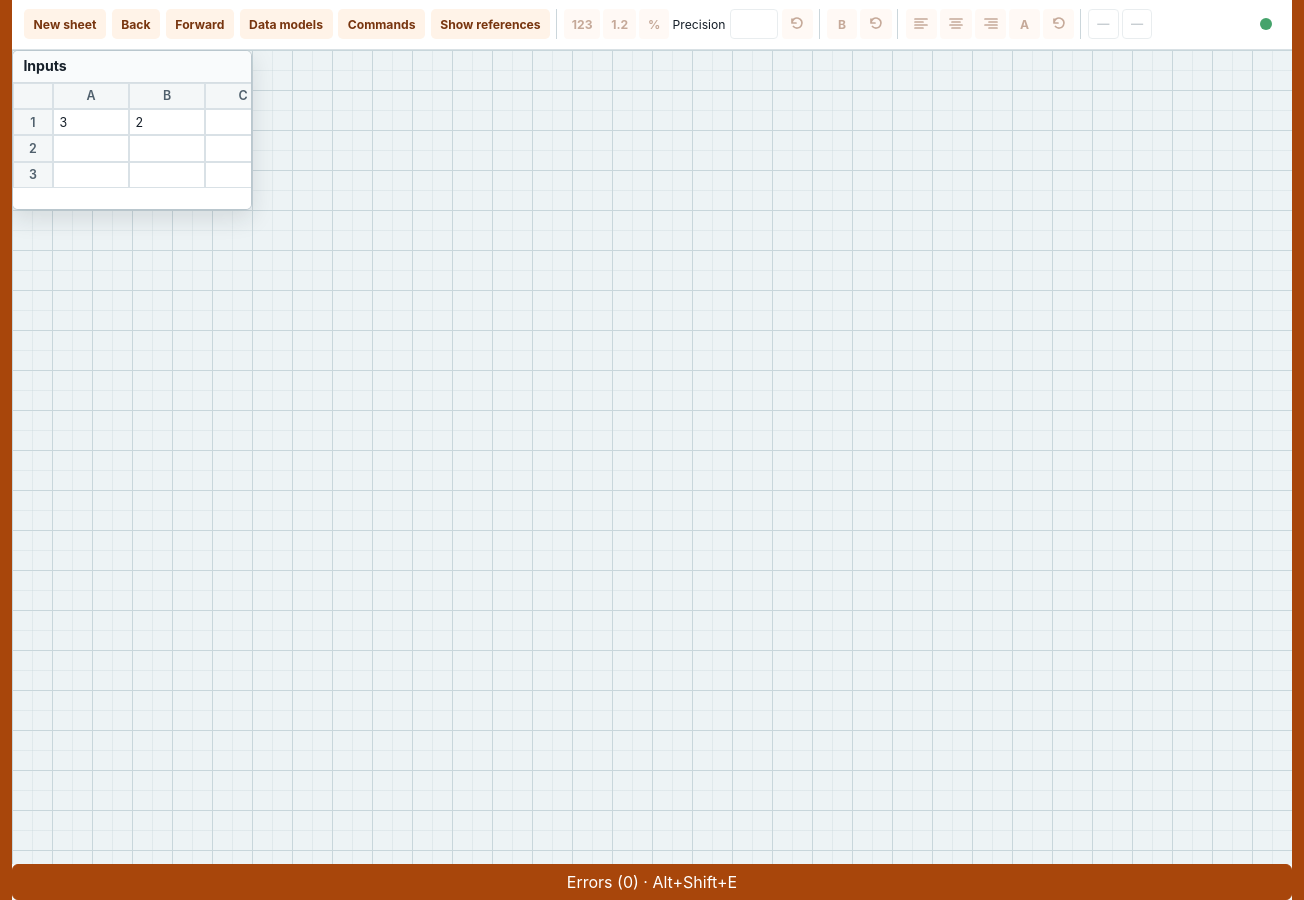
context-menu ownership in the composed workspace › cancels only the sheet menu when Escape comes from its input owner
The image size is (1304, 900).
Click the cell named "Inputs B1 cell".
click(167, 122)  # box [129, 109, 205, 135]
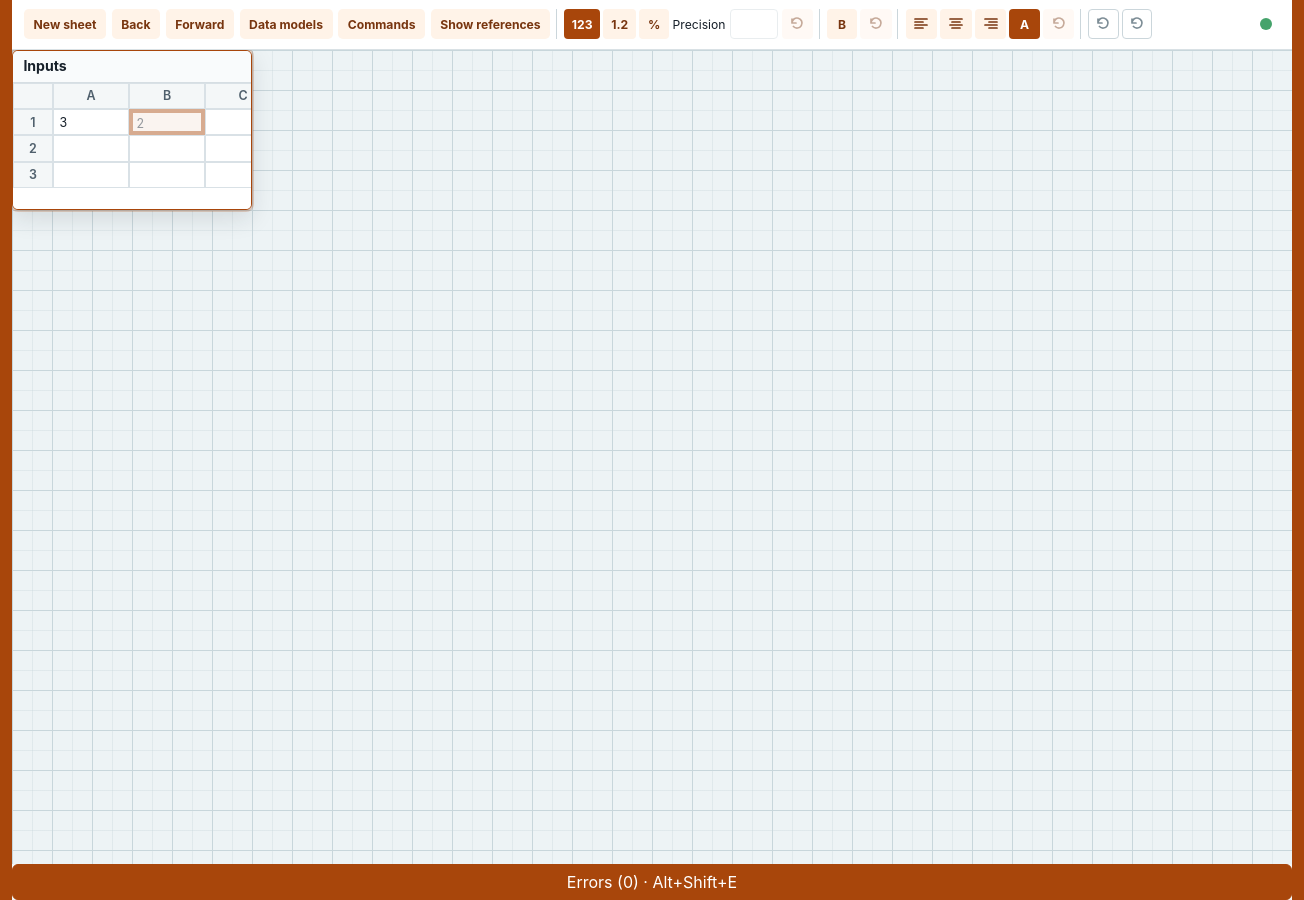
Now the cell named "Inputs B1 cell" has attribute data-pending-cut="true", box [129, 109, 205, 135]
Right-click the element named "Sheet Inputs".
right_click(132, 130)  # box [12, 50, 252, 210]
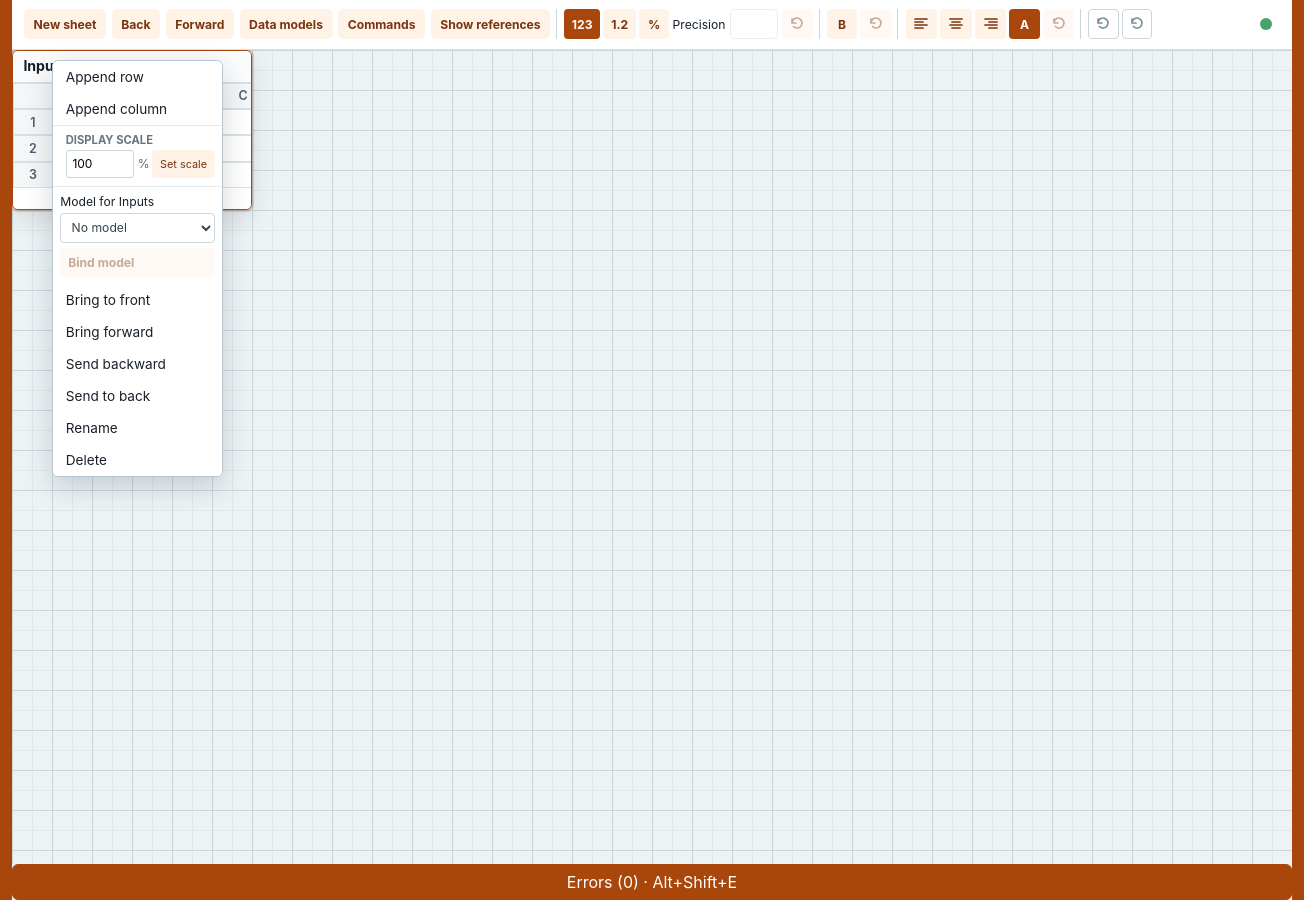
Replace the text in the number field labelled "%" with "75" at (100, 164), box [66, 150, 134, 178]
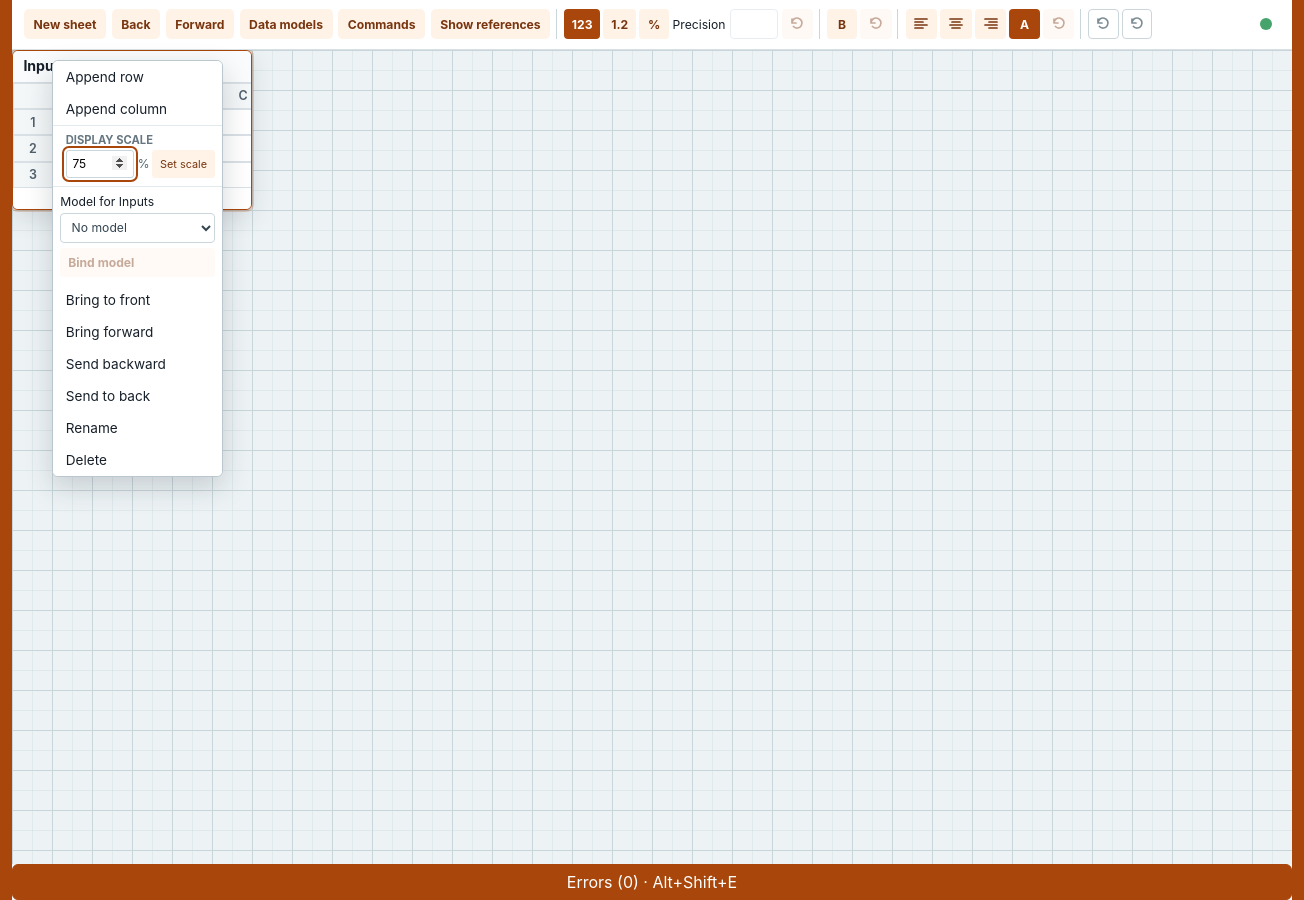
Press Escape in the number field labelled "%", box [66, 150, 134, 178]
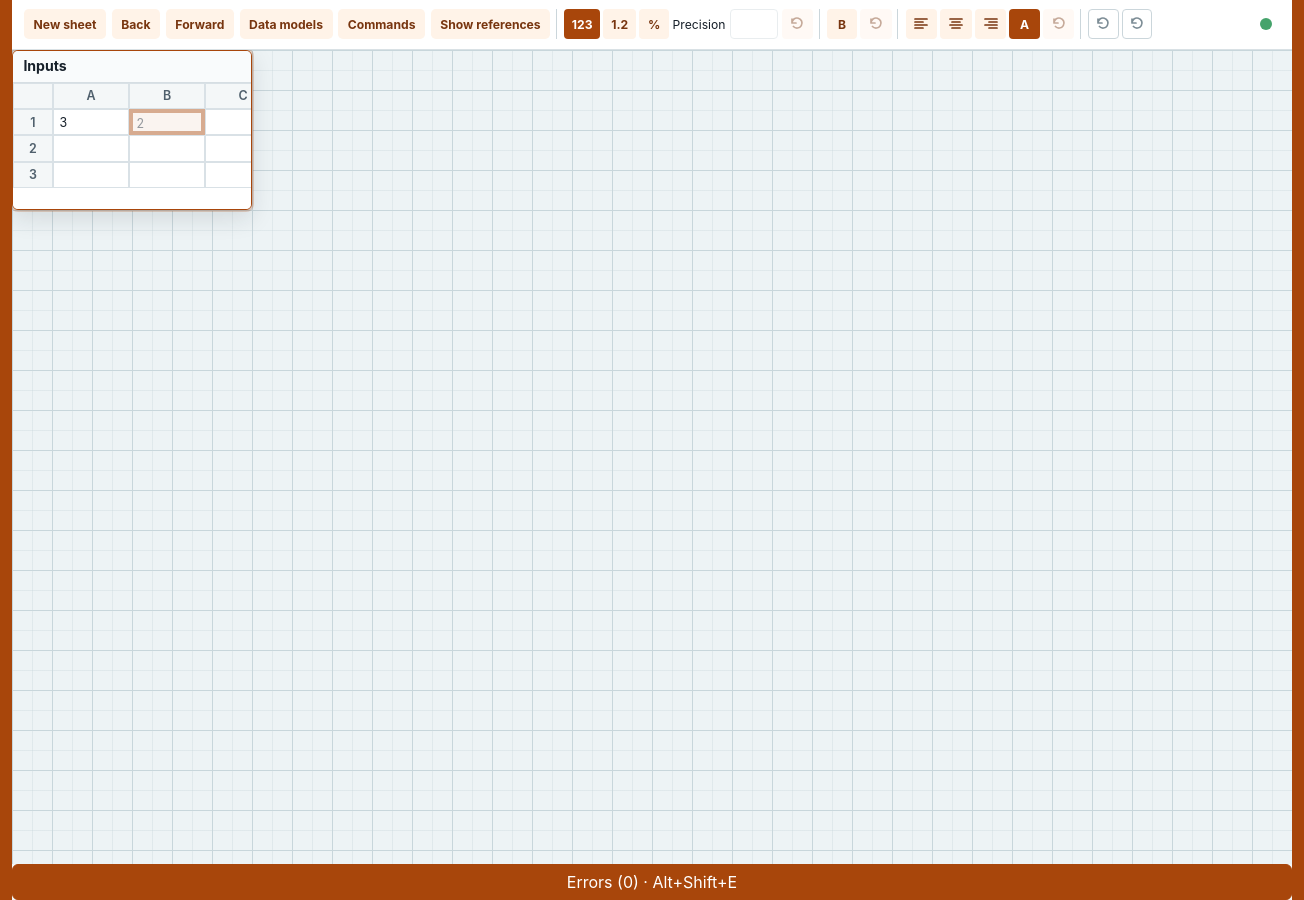
Now the menu is gone
Press Escape in the cell named "Inputs B1 cell", box [129, 109, 205, 135]
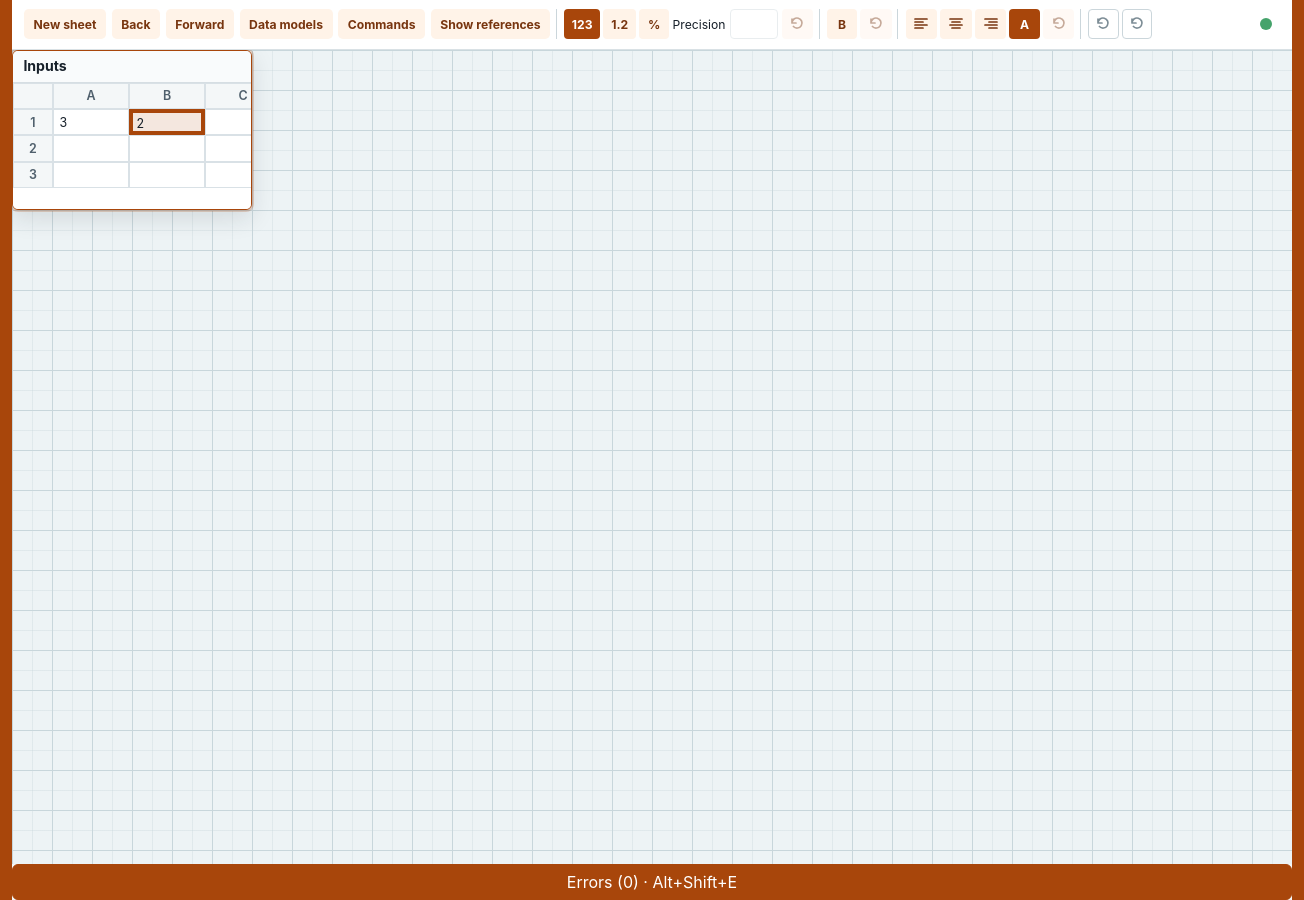
Now the cell named "Inputs B1 cell" does not have attribute data-pending-cut, box [129, 109, 205, 135]
Right-click the element named "Sheet Inputs".
right_click(132, 130)  # box [12, 50, 252, 210]
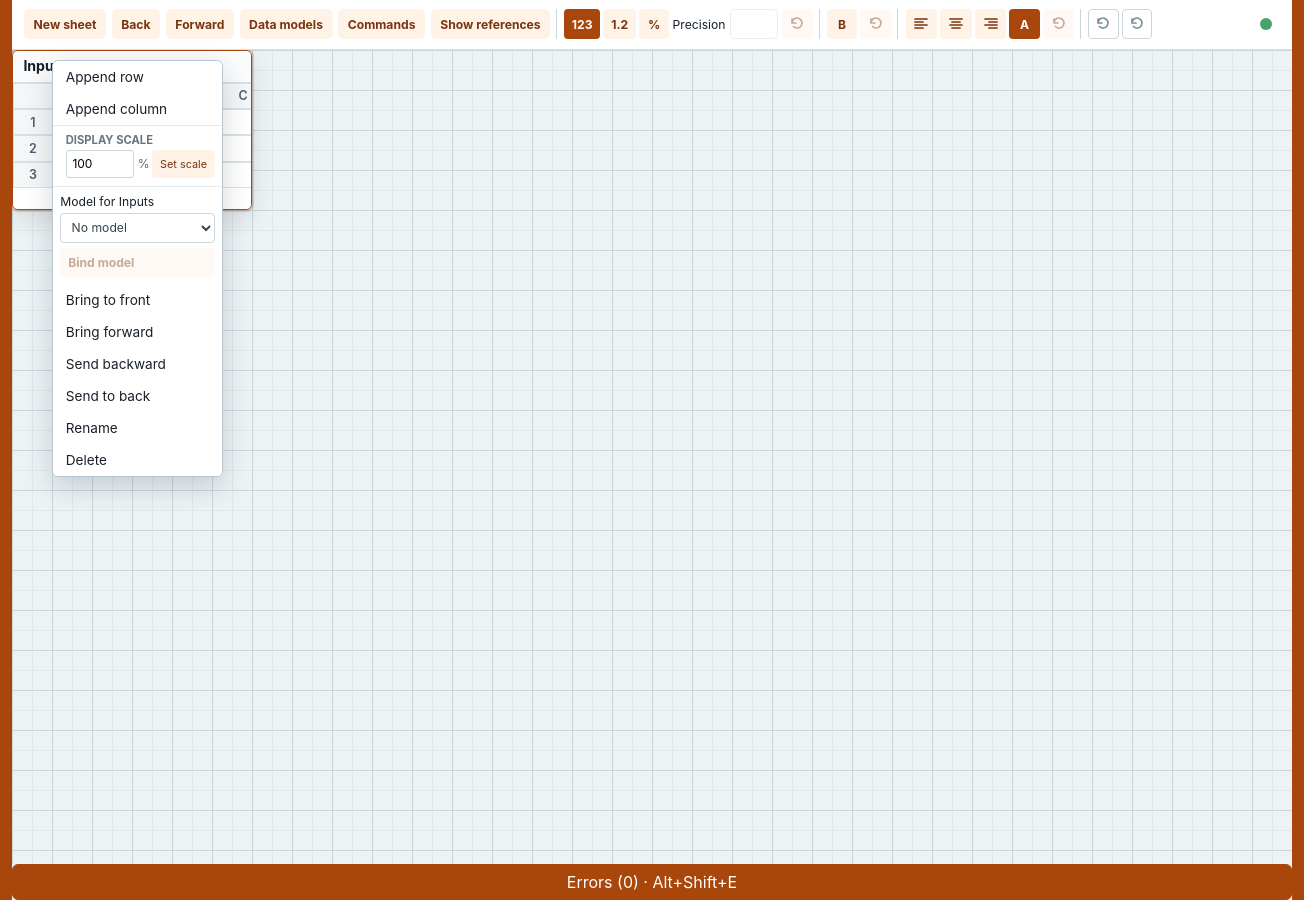
Now the number field labelled "%" holds "100", box [66, 150, 134, 178]
